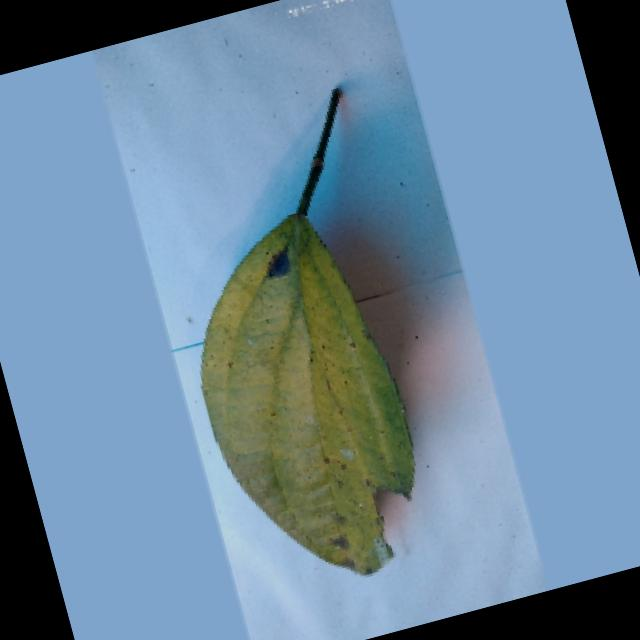slow-decline: (132, 96, 458, 607)
